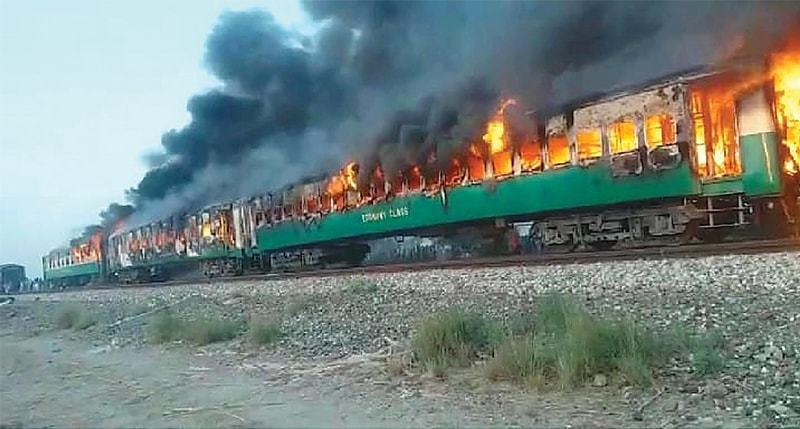fire: (694, 91, 743, 177), (771, 59, 800, 180), (483, 98, 512, 179), (325, 162, 358, 197), (70, 234, 101, 265), (576, 126, 603, 161), (610, 119, 636, 154), (548, 134, 570, 167), (518, 144, 543, 172), (644, 115, 663, 147)
smoke: (160, 0, 482, 187), (483, 0, 773, 100), (95, 166, 159, 232), (161, 186, 240, 219)
